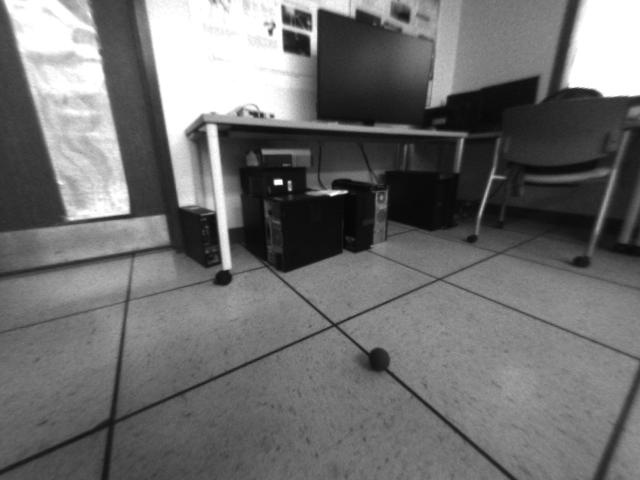dogtoy: (363, 341, 398, 376)
